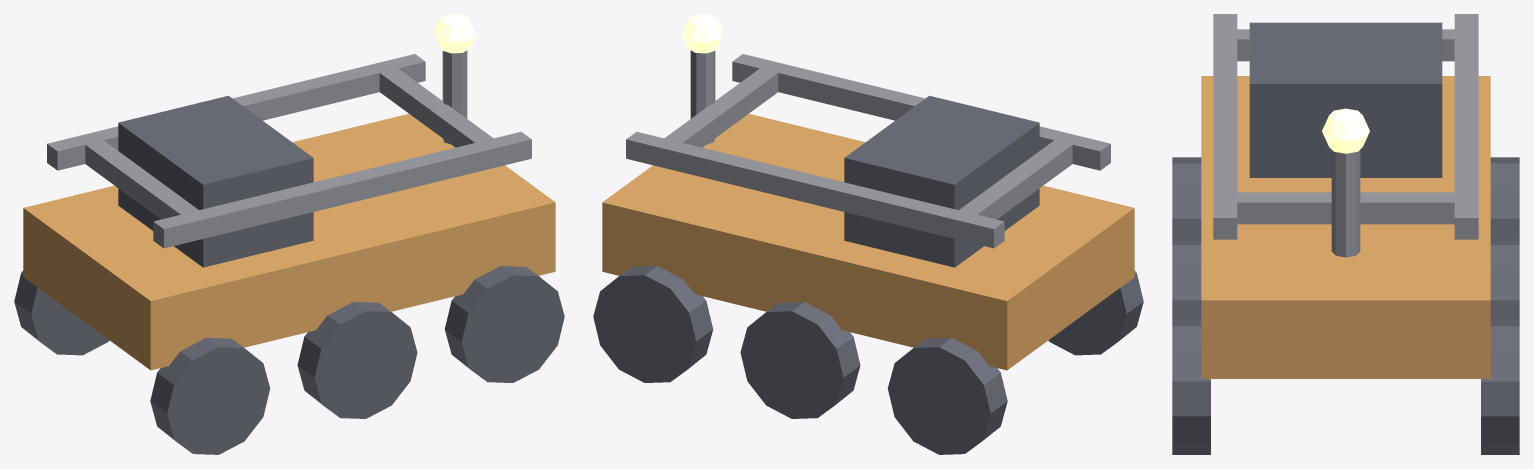
File: PropRover.fbx
3 renders of one model, left to right at view 1: azimuth 30°, elevation 25°; view 2: azimuth 150°, elevation 25°; view 3: azimuth 270°, elevation 25°, orthographic. The views are drawn at different scales.
Parts seen in each view (by area): view 1: Rover_Chassis, Rover_Seat, Rover_Wheel_21, Rover_Wheel_11, Rover_Wheel_31, Rover_Cage_L, Rover_Cage_R, Rover_Cage_B, Rover_Cage_F, Rover_Wheel_12, Rover_Mast, Rover_Beacon; view 2: Rover_Chassis, Rover_Seat, Rover_Cage_R, Rover_Wheel_22, Rover_Wheel_12, Rover_Wheel_32, Rover_Cage_L, Rover_Cage_F, Rover_Cage_B, Rover_Wheel_11, Rover_Mast, Rover_Beacon; view 3: Rover_Chassis, Rover_Seat, Rover_Cage_B, Rover_Cage_R, Rover_Cage_L, Rover_Wheel_31, Rover_Wheel_32, Rover_Mast, Rover_Wheel_11, Rover_Wheel_12, Rover_Wheel_21, Rover_Wheel_22 (+2 smaller).
Boxes of the visible parts, x1=… form: Rover_Chassis: x1=23, y1=114, x2=555, y2=370; Rover_Seat: x1=118, y1=95, x2=313, y2=267; Rover_Wheel_21: x1=297, y1=302, x2=417, y2=418; Rover_Wheel_11: x1=150, y1=337, x2=270, y2=454; Rover_Wheel_31: x1=444, y1=266, x2=564, y2=382; Rover_Cage_L: x1=153, y1=131, x2=531, y2=248; Rover_Cage_R: x1=47, y1=54, x2=425, y2=170; Rover_Cage_B: x1=379, y1=68, x2=504, y2=169; Rover_Cage_F: x1=85, y1=140, x2=209, y2=241; Rover_Wheel_12: x1=14, y1=270, x2=109, y2=355; Rover_Mast: x1=442, y1=50, x2=467, y2=144; Rover_Beacon: x1=434, y1=14, x2=475, y2=53; Rover_Chassis: x1=602, y1=114, x2=1134, y2=370; Rover_Seat: x1=844, y1=95, x2=1039, y2=267; Rover_Cage_R: x1=626, y1=131, x2=1004, y2=248; Rover_Wheel_22: x1=740, y1=302, x2=860, y2=418; Rover_Wheel_12: x1=887, y1=337, x2=1007, y2=454; Rover_Wheel_32: x1=593, y1=266, x2=713, y2=382; Rover_Cage_L: x1=732, y1=54, x2=1110, y2=170; Rover_Cage_F: x1=948, y1=132, x2=1082, y2=241; Rover_Cage_B: x1=653, y1=60, x2=788, y2=169; Rover_Wheel_11: x1=1048, y1=270, x2=1143, y2=355; Rover_Mast: x1=690, y1=50, x2=715, y2=144; Rover_Beacon: x1=682, y1=14, x2=723, y2=53; Rover_Chassis: x1=1201, y1=76, x2=1490, y2=378; Rover_Seat: x1=1249, y1=22, x2=1442, y2=177; Rover_Cage_B: x1=1213, y1=192, x2=1463, y2=224; Rover_Cage_R: x1=1454, y1=14, x2=1478, y2=239; Rover_Cage_L: x1=1213, y1=14, x2=1237, y2=239; Rover_Wheel_31: x1=1172, y1=320, x2=1210, y2=454; Rover_Wheel_32: x1=1481, y1=320, x2=1519, y2=454; Rover_Mast: x1=1331, y1=150, x2=1360, y2=257; Rover_Wheel_11: x1=1172, y1=157, x2=1201, y2=238; Rover_Wheel_12: x1=1490, y1=157, x2=1519, y2=238; Rover_Wheel_21: x1=1172, y1=239, x2=1201, y2=320; Rover_Wheel_22: x1=1490, y1=239, x2=1519, y2=320.
Size of the model in its own units: 1.1 by 0.8 by 0.72.
